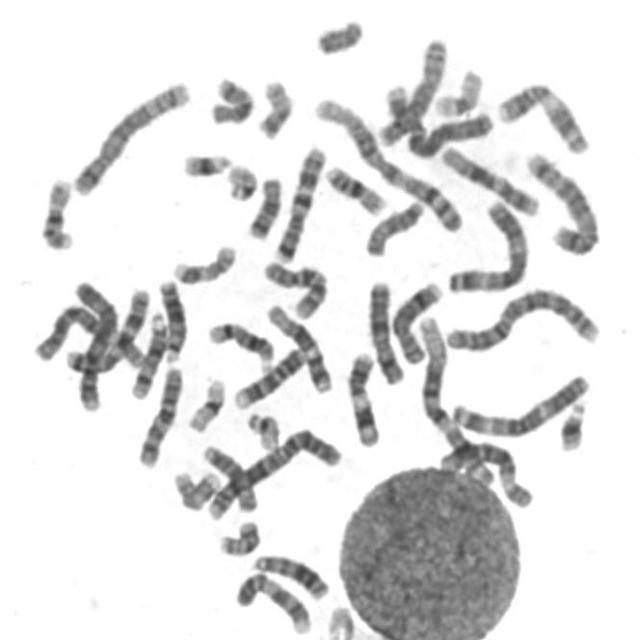A1: (310, 89, 468, 236), (414, 308, 496, 486)
A2: (201, 422, 344, 522), (441, 281, 604, 353)
A3: (447, 365, 594, 439), (442, 193, 533, 295)
B4: (380, 80, 497, 159), (70, 276, 122, 414)
B5: (66, 72, 194, 198), (520, 143, 604, 258)
C10: (132, 359, 186, 471), (258, 253, 332, 322)
C11: (492, 74, 594, 156), (342, 345, 385, 449)
C12: (436, 138, 544, 217), (262, 296, 336, 395)
C6: (30, 298, 148, 371), (434, 435, 538, 511)
C7: (60, 280, 151, 374), (270, 138, 330, 264)
C8: (372, 30, 450, 149), (388, 274, 446, 366)
C9: (230, 565, 316, 636), (230, 341, 310, 410)
D13: (246, 547, 332, 602), (153, 272, 190, 364)
D14: (125, 305, 172, 400), (202, 314, 278, 372)
D15: (198, 439, 262, 514), (360, 192, 428, 258)
E16: (320, 158, 390, 216), (36, 171, 78, 252)
E17: (168, 237, 240, 287), (168, 462, 224, 514)
E18: (243, 169, 285, 241), (205, 70, 258, 126)
F19: (429, 62, 487, 120), (182, 370, 230, 434)
F20: (252, 71, 297, 141), (214, 514, 264, 558)
G21: (554, 393, 591, 454), (178, 145, 235, 180)
G22: (241, 404, 284, 451), (222, 157, 261, 202)
X: (362, 273, 408, 386)
Y: (310, 11, 368, 57)
